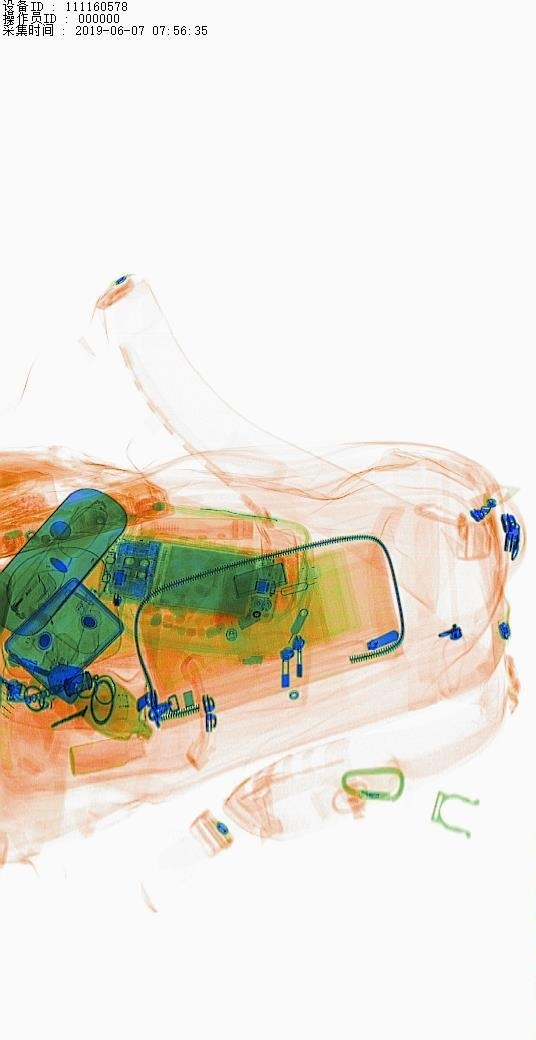NonmetallicFire: (3, 557, 74, 638)
